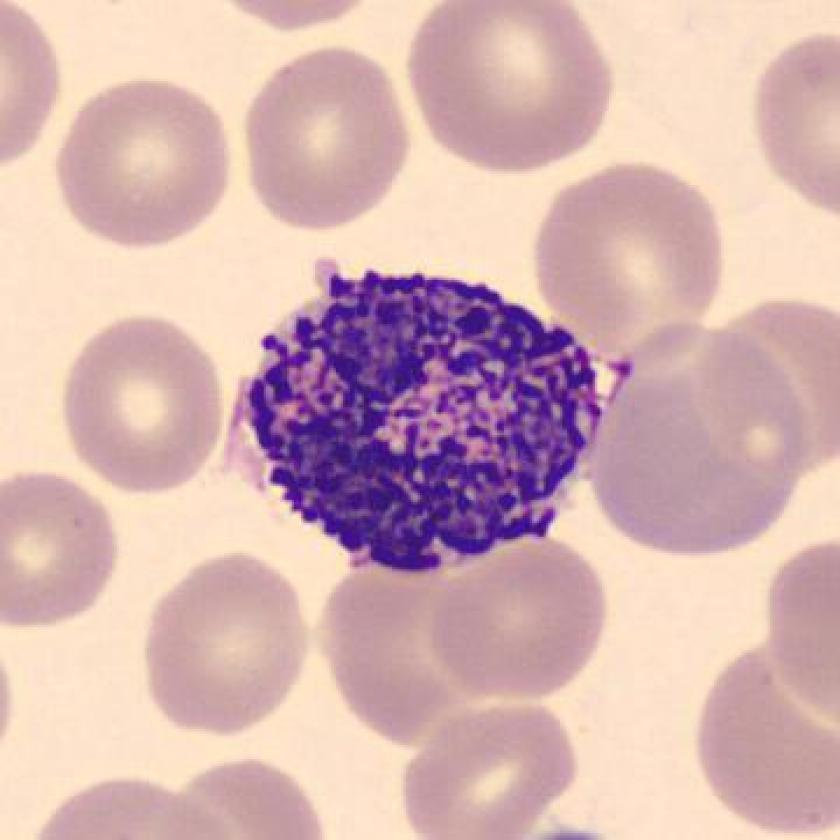basophil: (223, 255, 617, 568)
